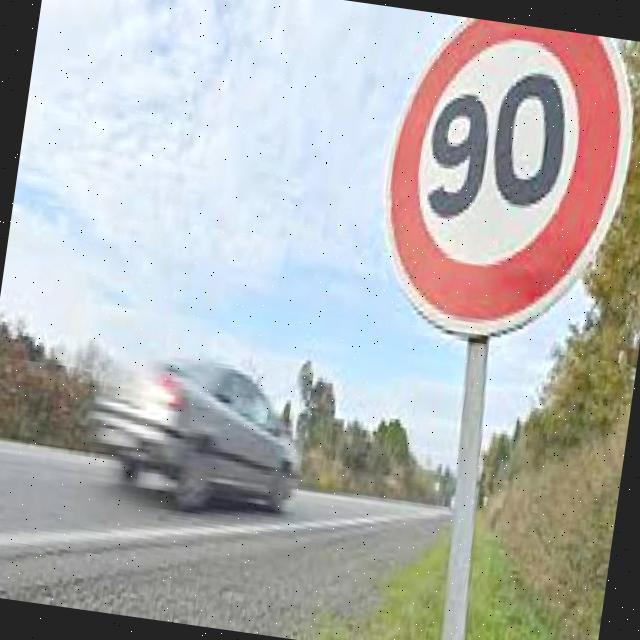Ograniczenie predkosci do 90: (357, 9, 640, 354)
